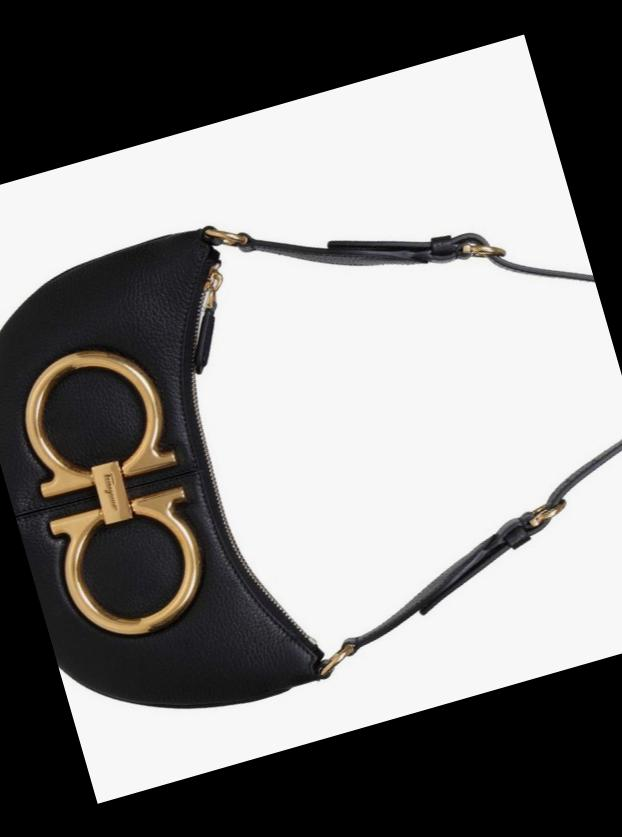FERRAGAMO: (0, 324, 232, 670)
